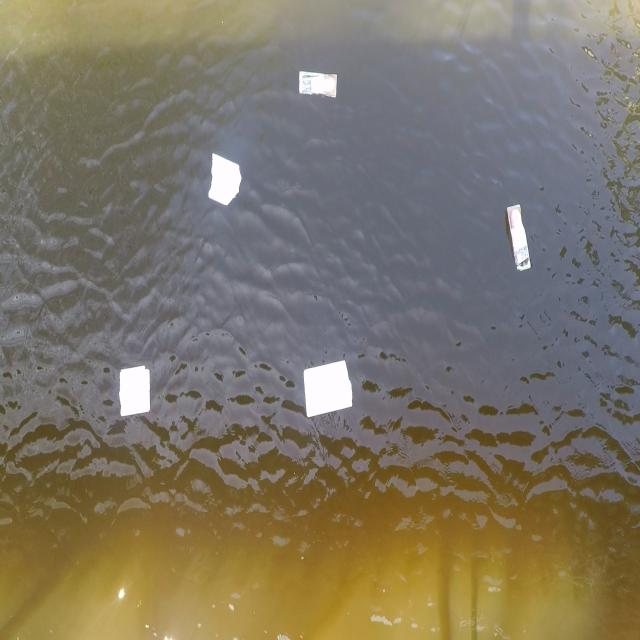Autre plastique: (294, 358, 359, 426), (202, 144, 245, 208), (114, 361, 155, 424)
